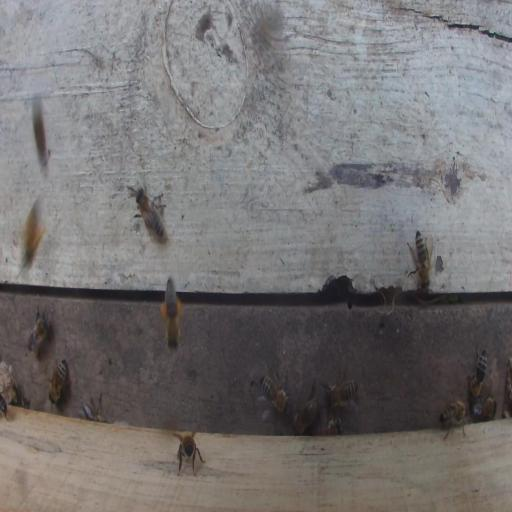nonpollenbee: (319, 361, 360, 415), (134, 186, 166, 240), (406, 226, 433, 288), (172, 429, 205, 477), (31, 97, 50, 169), (293, 381, 318, 434), (261, 375, 290, 416), (439, 399, 467, 440), (467, 346, 487, 402), (27, 307, 49, 355), (49, 357, 67, 405), (472, 395, 497, 421), (81, 397, 106, 422), (315, 417, 342, 435), (0, 393, 8, 422)
pollenbee: (160, 275, 183, 355), (23, 196, 48, 267)
